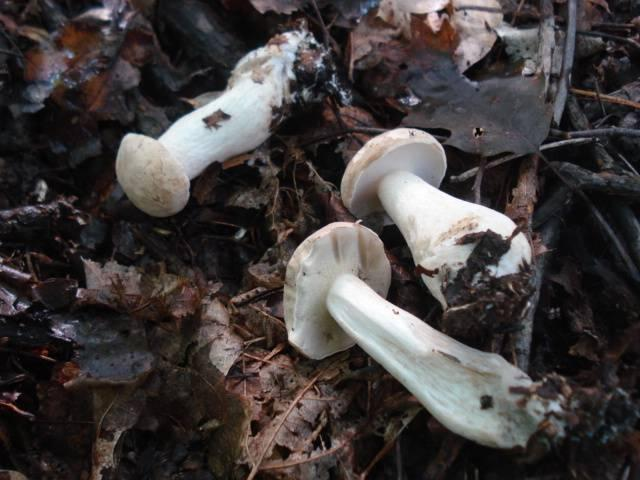Edible Mushroom: (281, 220, 565, 451), (338, 125, 537, 372), (113, 27, 327, 217)
